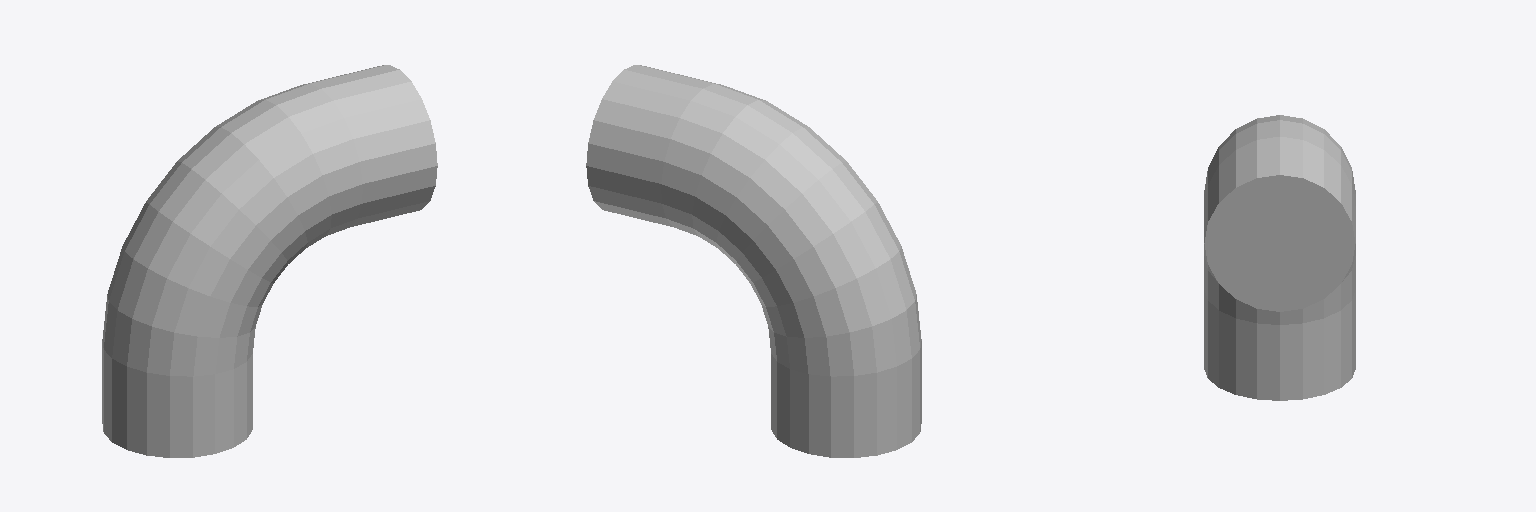
File: pipe_l.obj
The picture shows the model from 3 angles: view 1: azimuth 30°, elevation 25°; view 2: azimuth 150°, elevation 25°; view 3: azimuth 270°, elevation 25°; orthographic projection.
Visible parts, largest first — view 1: Line01; view 2: Line01; view 3: Line01.
Part boxes in pixels (bbox=[...]): Line01: bbox=[102, 65, 437, 457]; Line01: bbox=[586, 65, 921, 457]; Line01: bbox=[1204, 115, 1355, 400].
Bounding box in the file's own units: 56.63 × 56.91 × 25.79.